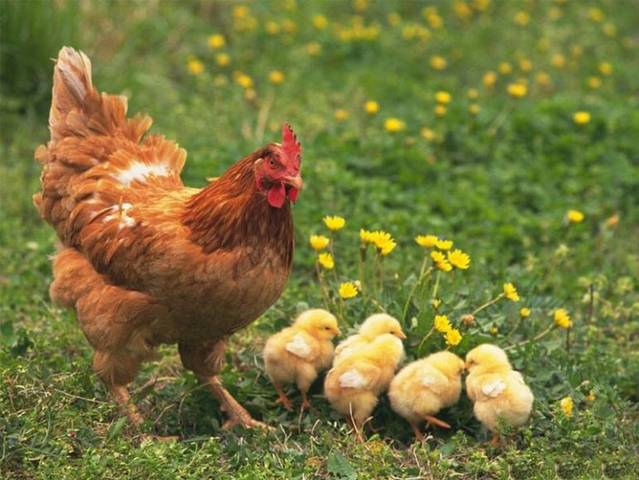ayam: (21, 29, 312, 458), (350, 286, 463, 452), (246, 305, 349, 424), (456, 325, 542, 448)
